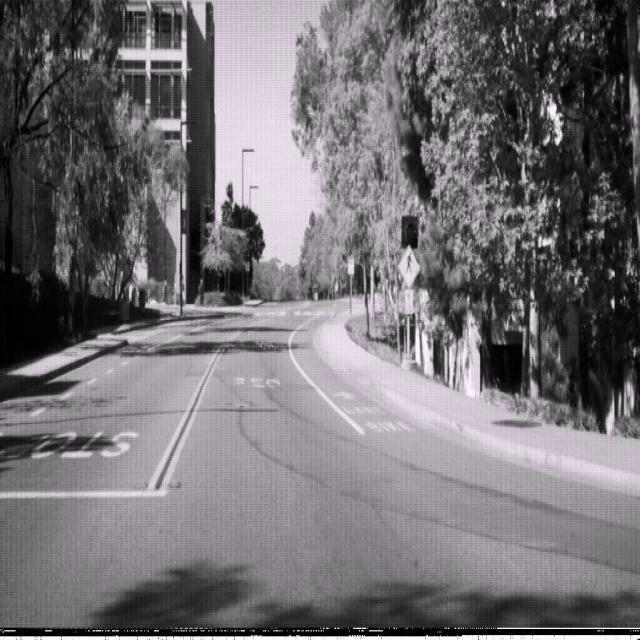pedestrianCrossing: (398, 244, 420, 288)
